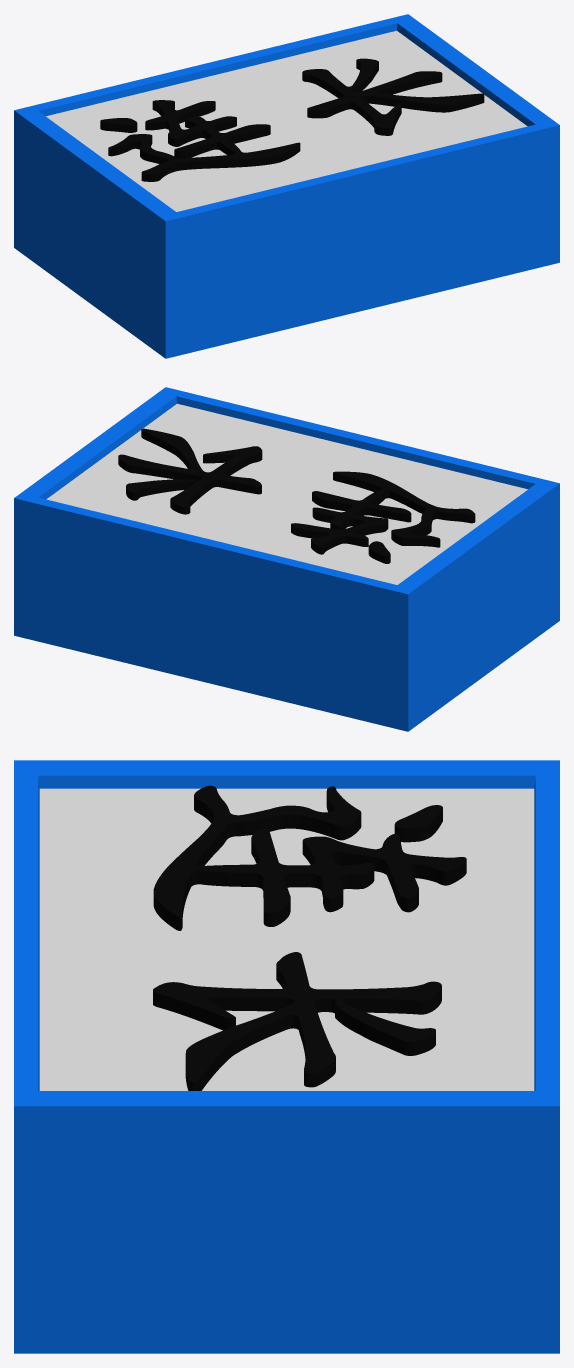
Rendered from 7_lian_zhang.fbx.
3 renders of one model, top to bottom at view 1: azimuth 30°, elevation 25°; view 2: azimuth 150°, elevation 25°; view 3: azimuth 270°, elevation 25°, orthographic. The views are drawn at different scales.
Visible parts, largest first — view 1: Cube, 文本; view 2: Cube, 文本; view 3: Cube, 文本.
Part boxes in pixels (<box>): Cube: <box>14,14,559,358</box>; 文本: <box>100,58,484,181</box>; Cube: <box>14,387,559,731</box>; 文本: <box>118,428,475,563</box>; Cube: <box>14,760,559,1353</box>; 文本: <box>153,785,466,1090</box>.
Bounding box in the file's own units: 240 × 80.47 × 160.
